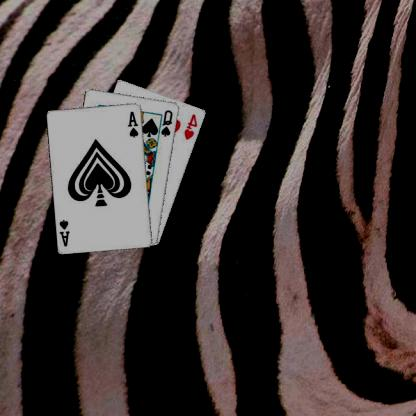4H: (184, 111, 201, 141)
AS: (59, 216, 73, 248), (128, 108, 142, 138)
QS: (161, 107, 176, 137)
